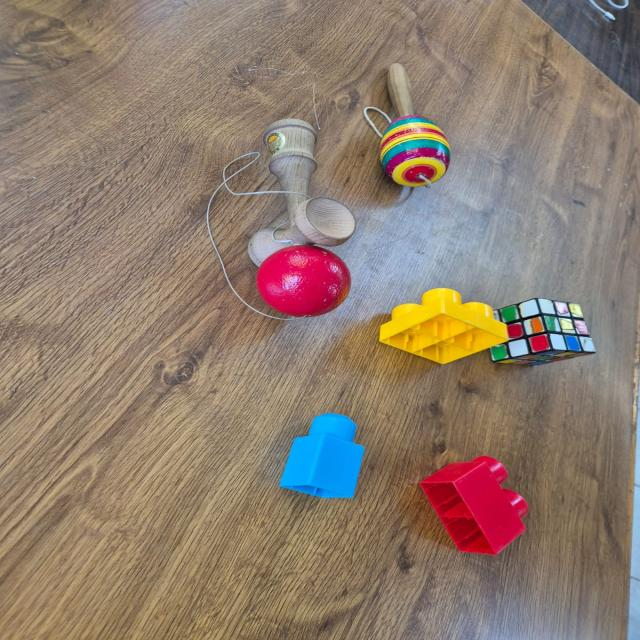balero: (363, 60, 456, 192)
balero ball: (201, 114, 364, 321)
lego 2: (418, 451, 540, 559)
lego 4: (375, 283, 515, 369)
lego_1: (276, 409, 368, 502)
rubick: (484, 292, 600, 370)
